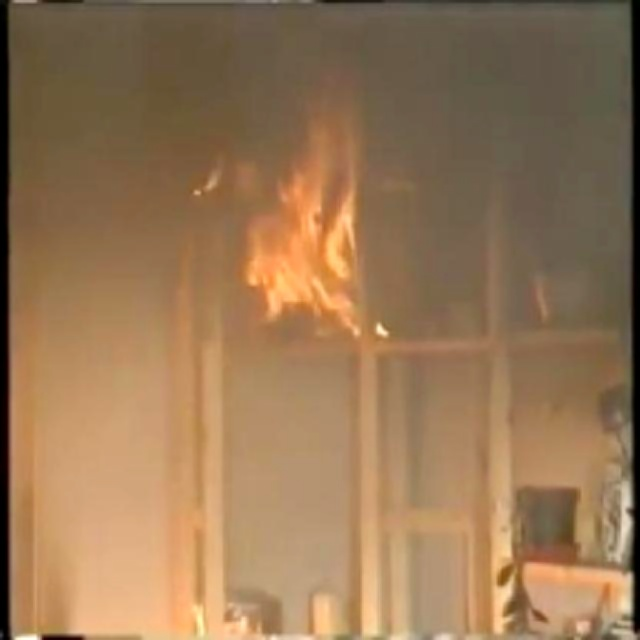fire: (173, 47, 407, 350)
